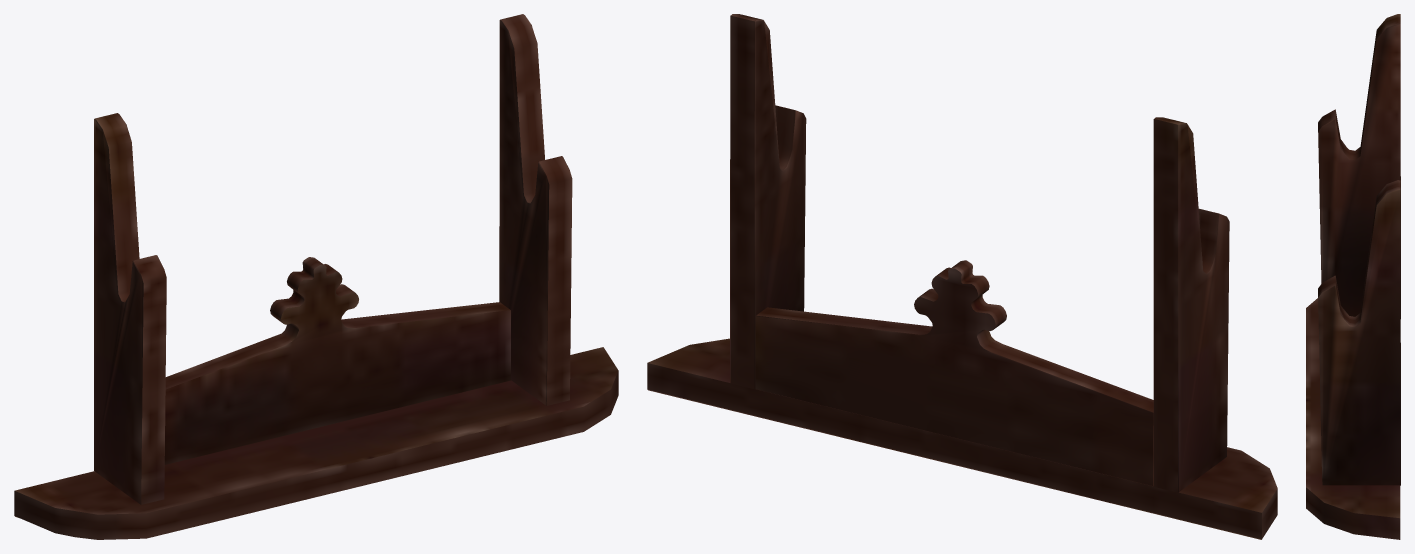
The picture shows the model from 3 angles, left to right: view 1: azimuth 30°, elevation 25°; view 2: azimuth 150°, elevation 25°; view 3: azimuth 270°, elevation 25°; orthographic projection. The views are drawn at different scales.
Visible parts, largest first — view 1: katana_stand_01; view 2: katana_stand_01; view 3: katana_stand_01.
Boxes of the visible parts, x1,y1,x2,y2 form: katana_stand_01: [14, 14, 618, 539]; katana_stand_01: [647, 14, 1277, 539]; katana_stand_01: [1306, 14, 1400, 539].
Bounding box in the file's own units: 0.2958 × 0.1818 × 0.0491.
1 material, 1 textured.
